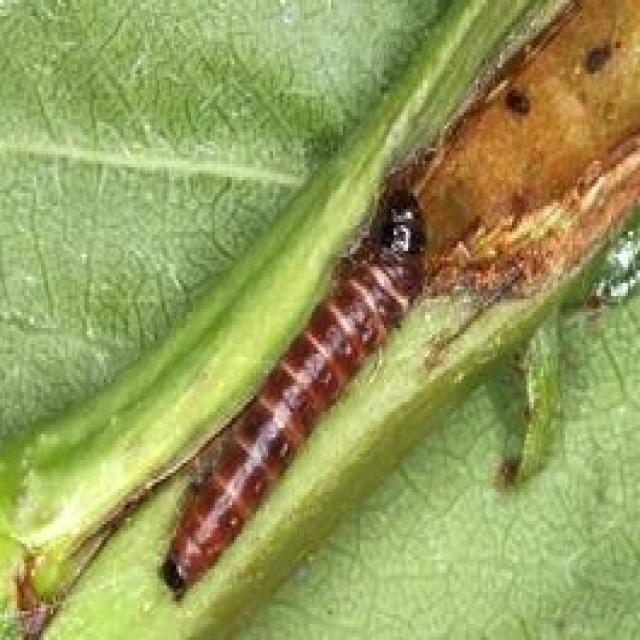peach borer: (150, 188, 432, 606)
